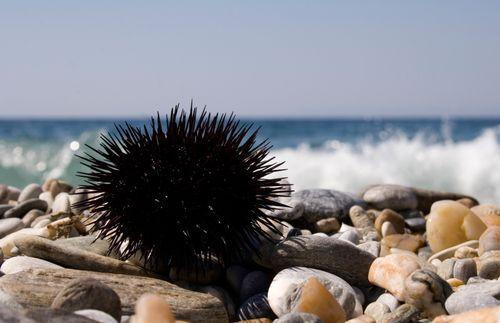urchin: (68, 96, 298, 286)
